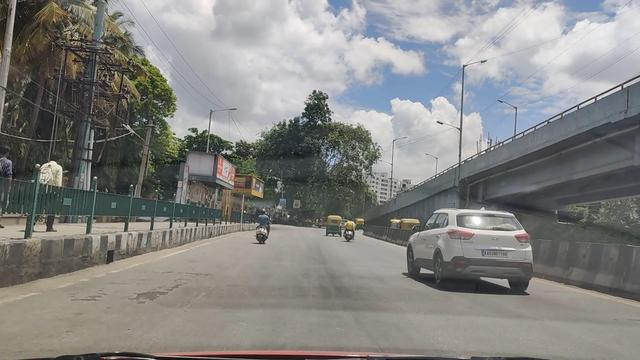LMV: (409, 208, 547, 297), (255, 206, 270, 247)
RoadDamages: (137, 280, 185, 303), (82, 286, 111, 309)
